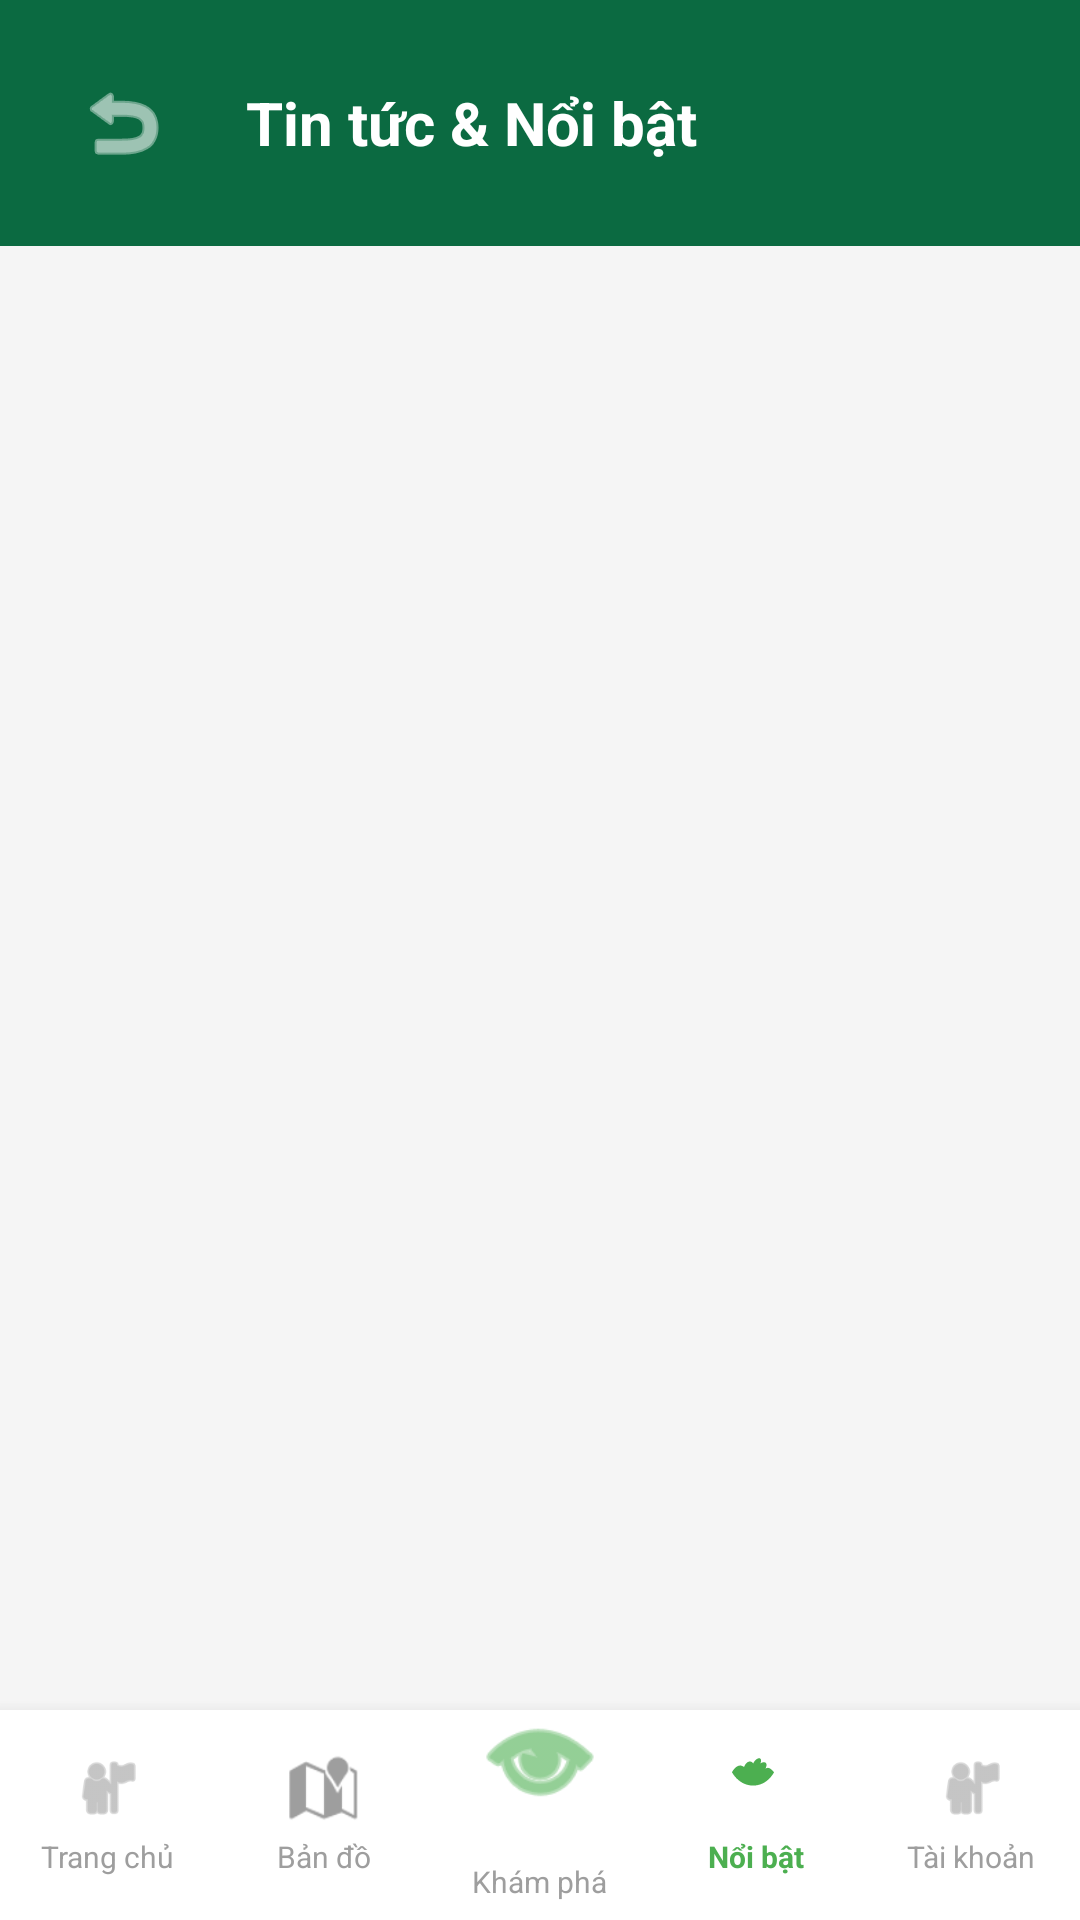

Where to tap for icons on this 1080x1920 app screen, as point (x, y):
Nút Back: point (124, 123)
